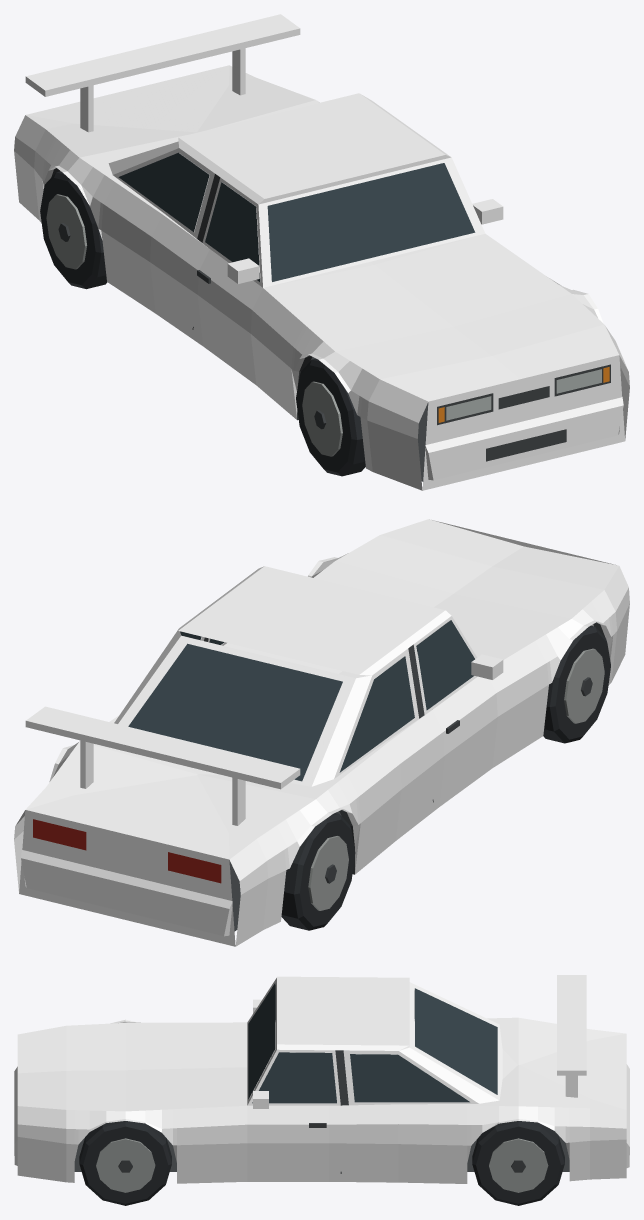
Rendered from sanga_tsukikage_corrida.glb.
The picture shows the model from 3 angles, top to bottom: view 1: azimuth 30°, elevation 25°; view 2: azimuth 150°, elevation 25°; view 3: azimuth 270°, elevation 25°; orthographic projection. The views are drawn at different scales.
Visible parts, largest first — view 1: sanga_tsukikage_corrida; view 2: sanga_tsukikage_corrida; view 3: sanga_tsukikage_corrida.
Boxes of the visible parts, box(x1,y1,x2,y2) form: sanga_tsukikage_corrida: box(14, 14, 629, 490); sanga_tsukikage_corrida: box(14, 519, 629, 946); sanga_tsukikage_corrida: box(14, 975, 629, 1205).
Bounding box in the file's own units: 1.76 × 1.2 × 4.53.
8 materials, 1 textured.
